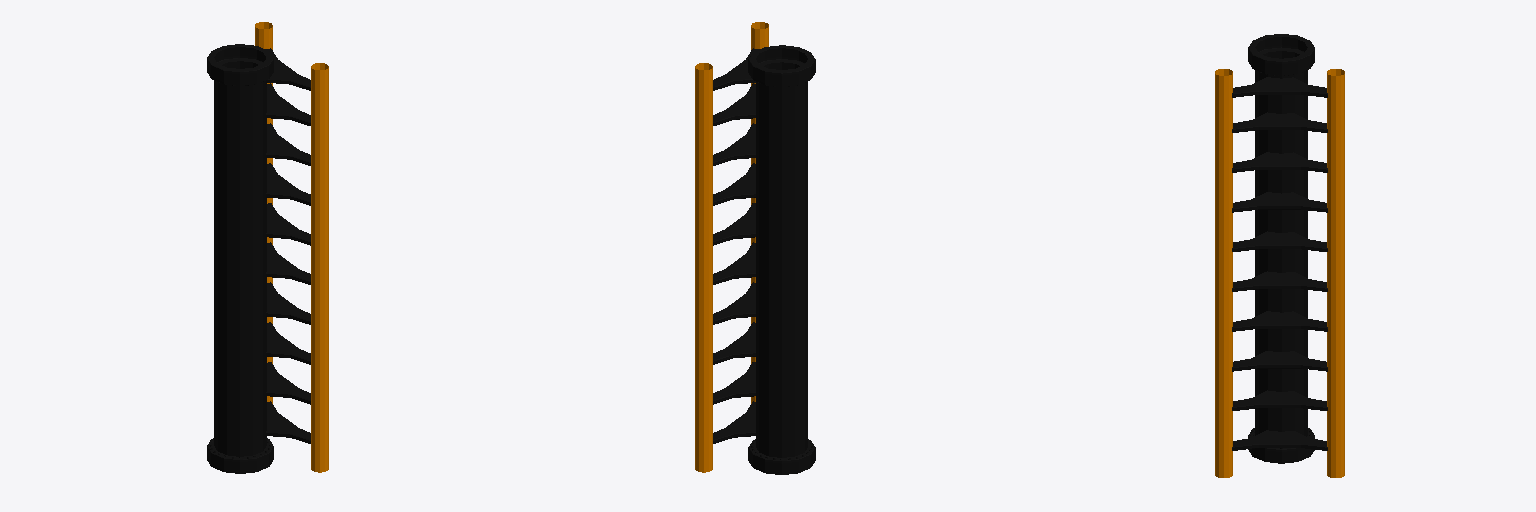
Rendered from coasterExample.obj.
The picture shows the model from 3 angles: view 1: azimuth 30°, elevation 25°; view 2: azimuth 150°, elevation 25°; view 3: azimuth 270°, elevation 25°; orthographic projection.
Visible parts, largest first — view 1: Cylinder318; view 2: Cylinder318; view 3: Cylinder318.
Part boxes in pixels (left/top/right/bottom): Cylinder318: left=207, top=22, right=328, bottom=473; Cylinder318: left=695, top=22, right=815, bottom=474; Cylinder318: left=1215, top=34, right=1344, bottom=477.
Size of the model in its own units: 188 by 821 by 242.